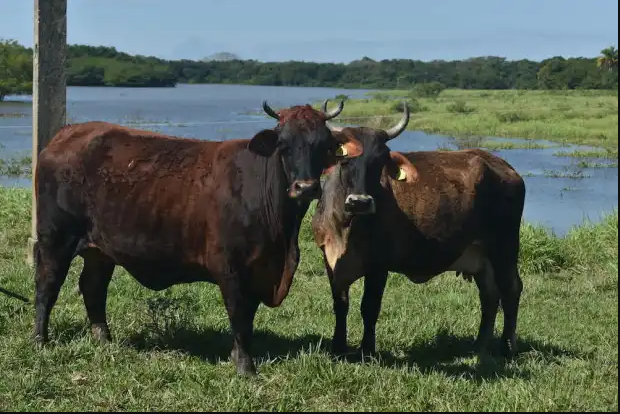bovino: (32, 99, 327, 374), (315, 98, 526, 359)
